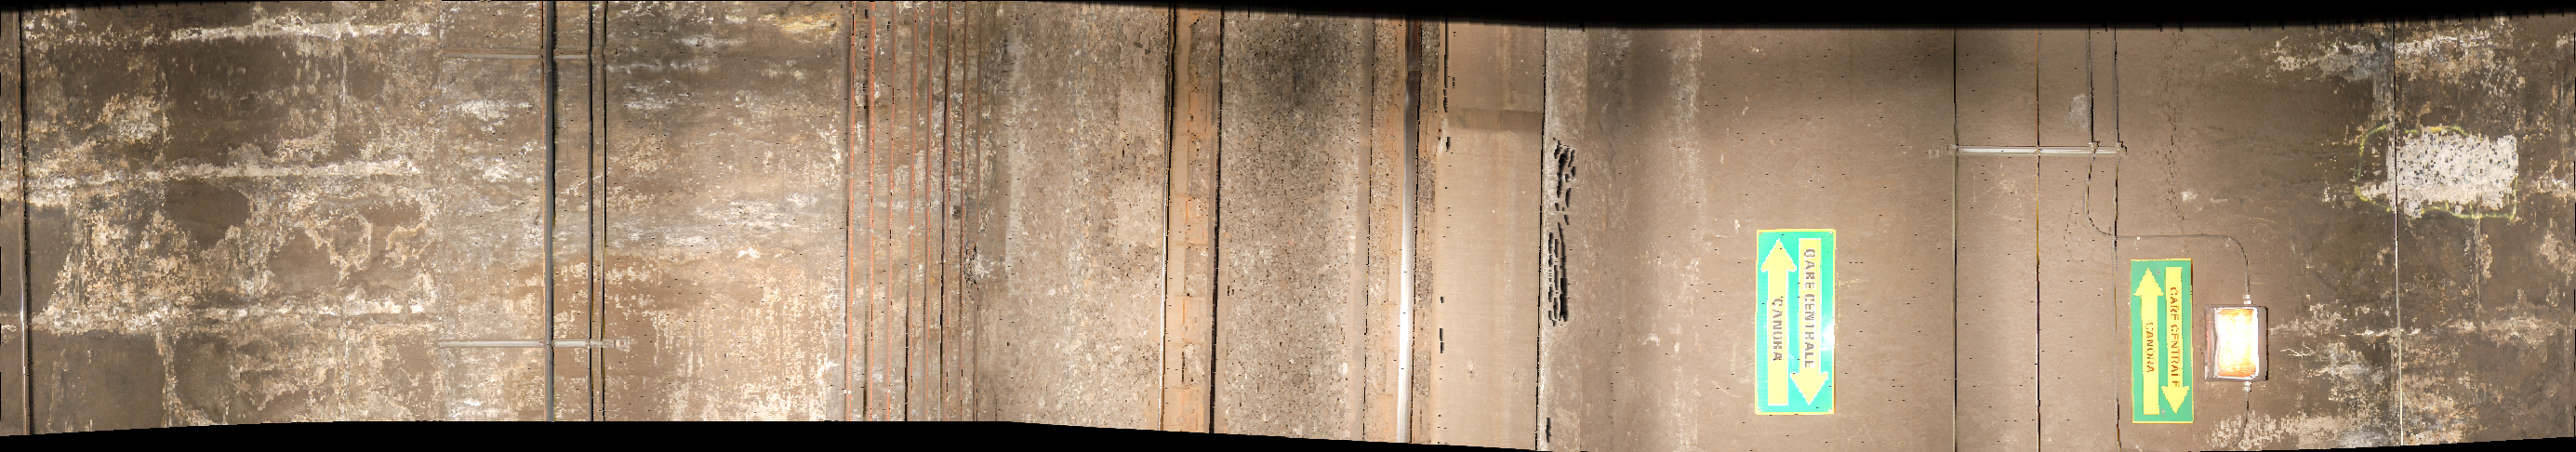light: (2211, 307, 2269, 380)
pipes: (841, 12, 977, 452), (575, 3, 621, 436), (2022, 26, 2060, 452), (1940, 16, 1976, 452), (2382, 5, 2415, 452), (2129, 256, 2200, 427), (537, 3, 560, 427), (15, 2, 33, 452)
sign: (1751, 230, 1840, 417)
tracks: (1171, 5, 1544, 452)
